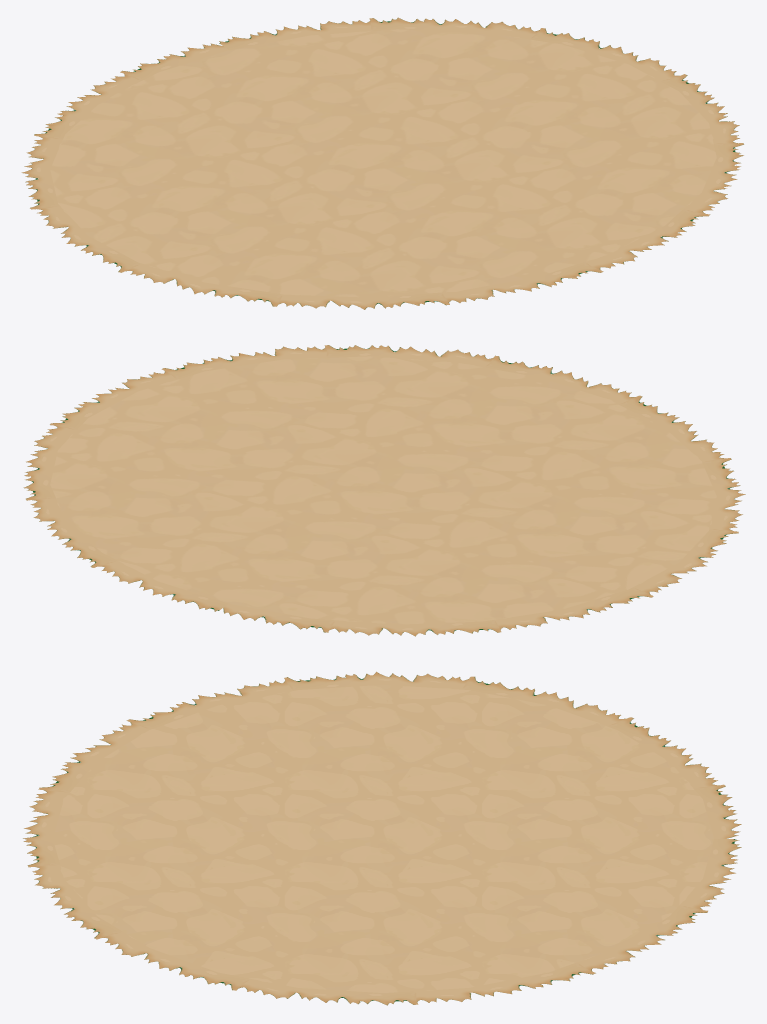
File: Round.fbx
3 renders of one model, top to bottom at view 1: azimuth 30°, elevation 25°; view 2: azimuth 150°, elevation 25°; view 3: azimuth 270°, elevation 25°, orthographic. The views are drawn at different scales.
Parts seen in each view (by area): view 1: pDisc3, pDisc1; view 2: pDisc3, pDisc1; view 3: pDisc3, pDisc1.
Part boxes in pixels (x1,y1,x2,y2): pDisc3: (50,29,716,297); pDisc1: (21,17,743,309); pDisc3: (50,356,716,624); pDisc1: (23,345,745,636); pDisc3: (53,685,713,992); pDisc1: (23,671,741,1005).
Size of the model in its own units: 6.6 by 0 by 6.04.
